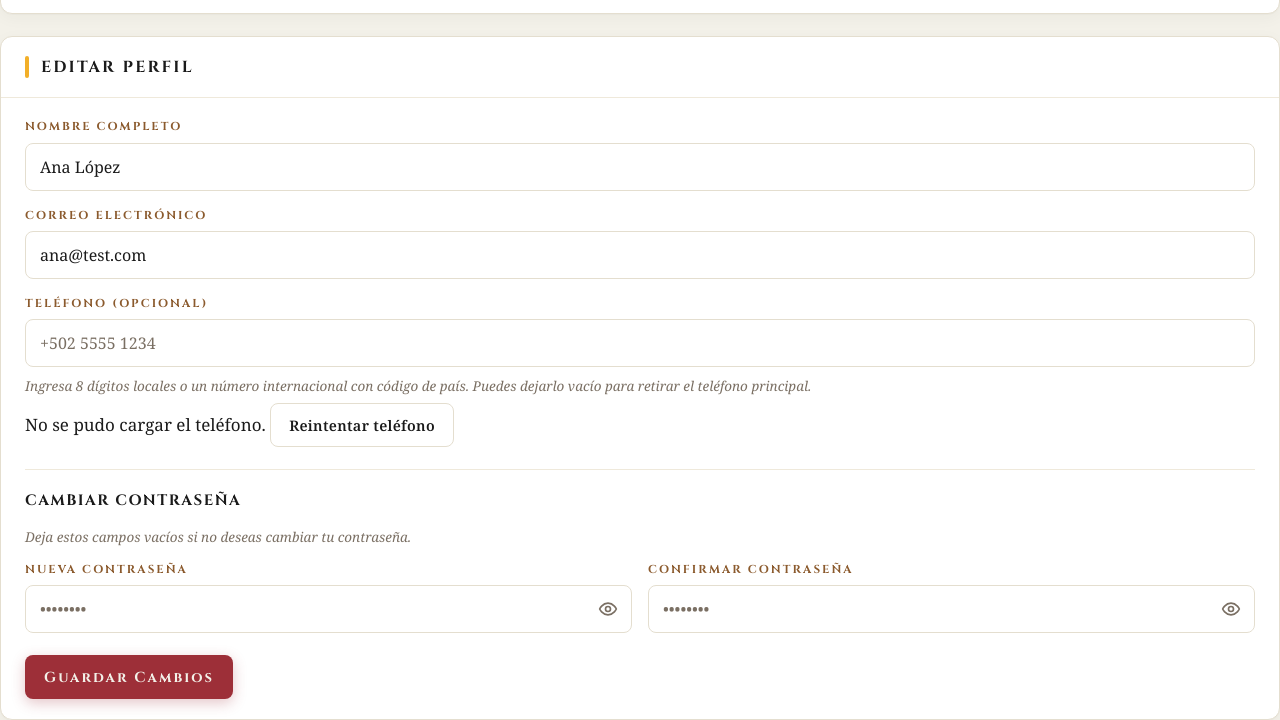
Test case: PerfilPage - avisos › permite reintentar la carga sin borrar el teléfono cuando falla
(page scrolled)
Click the button "Reintentar teléfono" at (362, 425), box [270, 403, 454, 447]
(page scrolled)
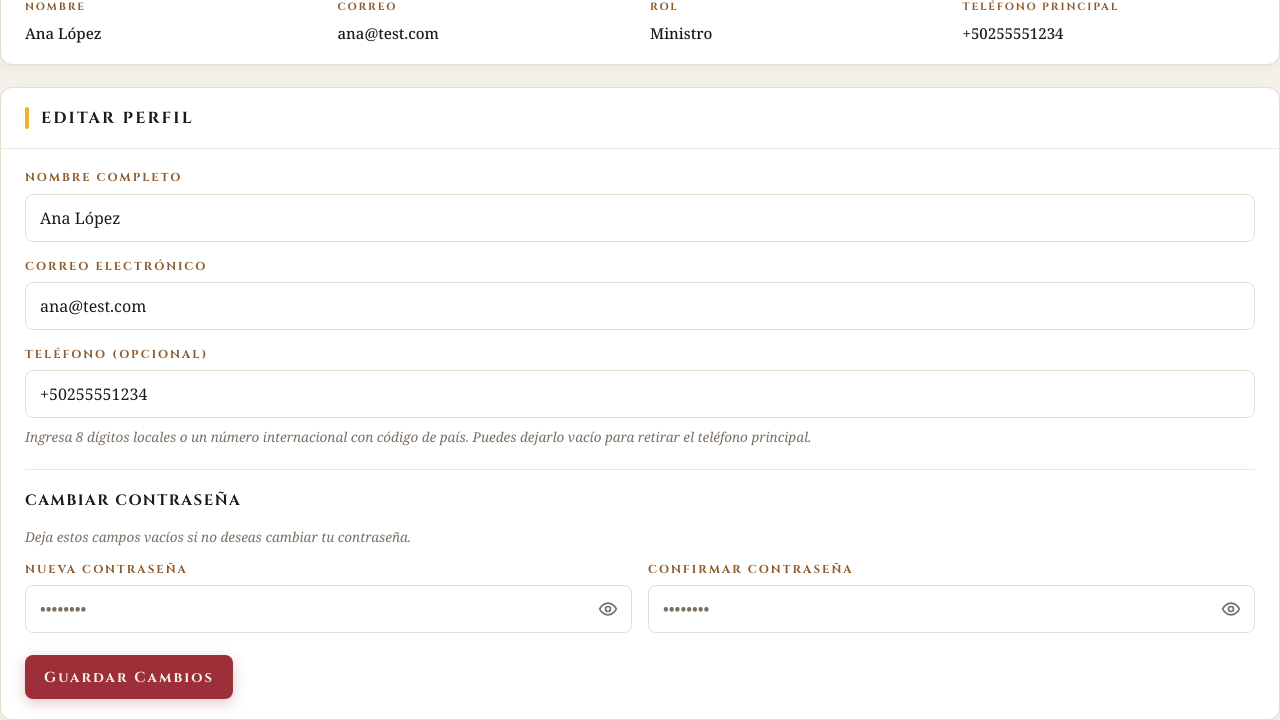
expect the field showing "+50255551234" is enabled: met, box [25, 370, 1255, 418]
Click the button "Guardar Cambios" at (129, 677), box [25, 655, 233, 699]
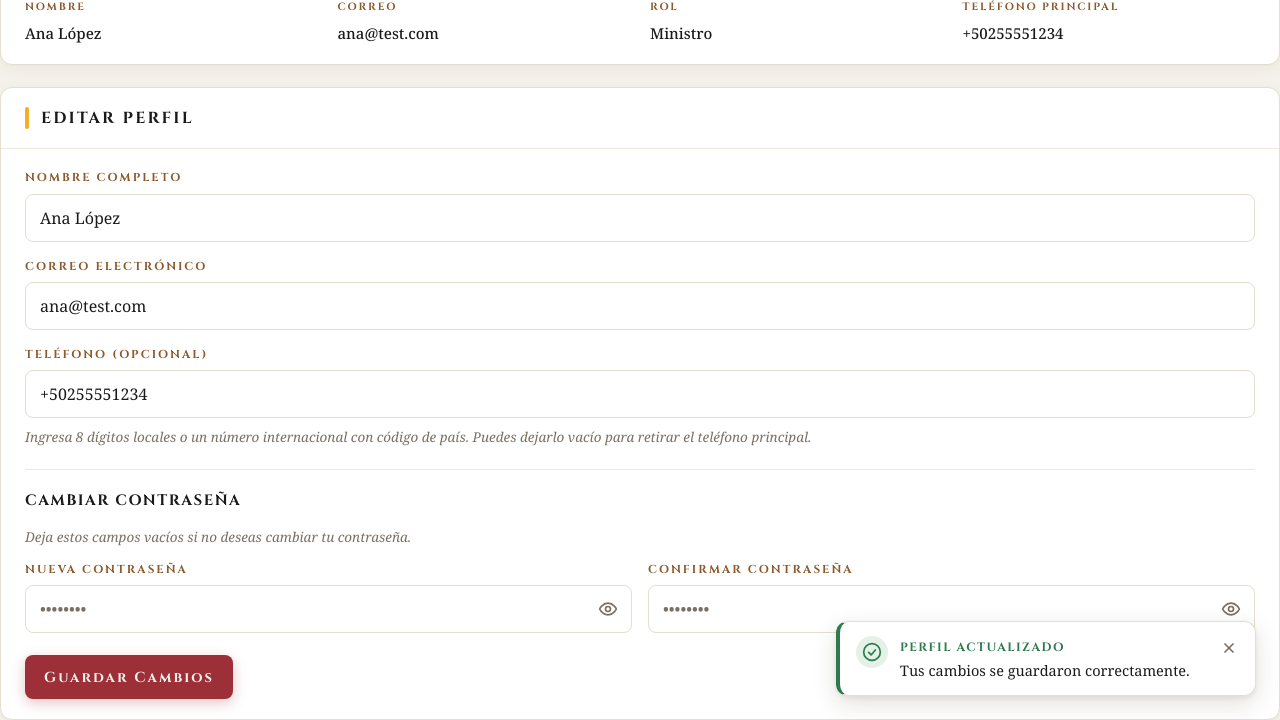
expect the message "Perfil actualizado Tus cambios se guardaron correctamente." is shown: met, box [836, 621, 1256, 696]
